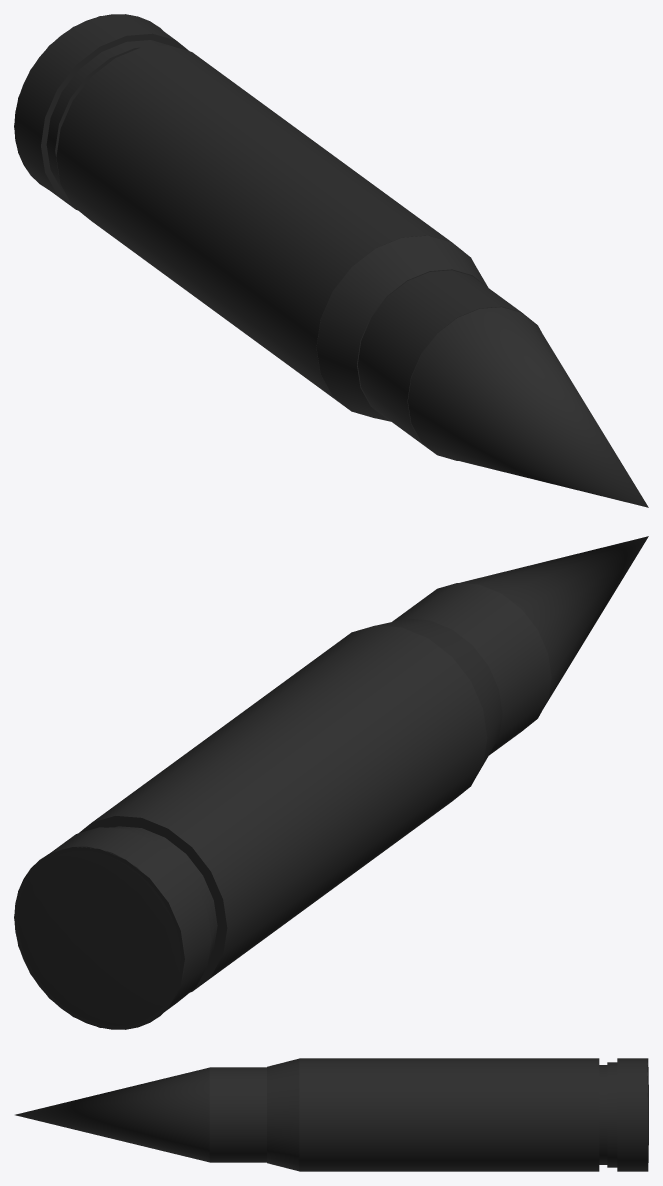
File: ammo.obj
The picture shows the model from 3 angles, top to bottom: view 1: azimuth 30°, elevation 25°; view 2: azimuth 150°, elevation 25°; view 3: azimuth 270°, elevation 25°; orthographic projection. The views are drawn at different scales.
Size of the model in its own units: 0.6701 by 0.6701 by 3.73.
Materials: 1 (1 with a texture image).
